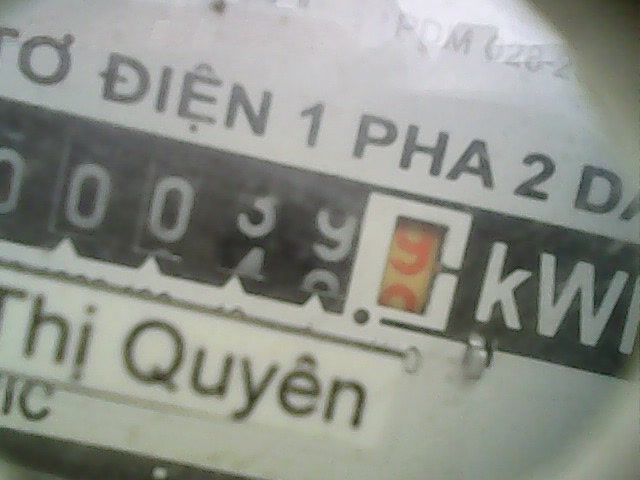phy_plate: (1, 124, 469, 339)
